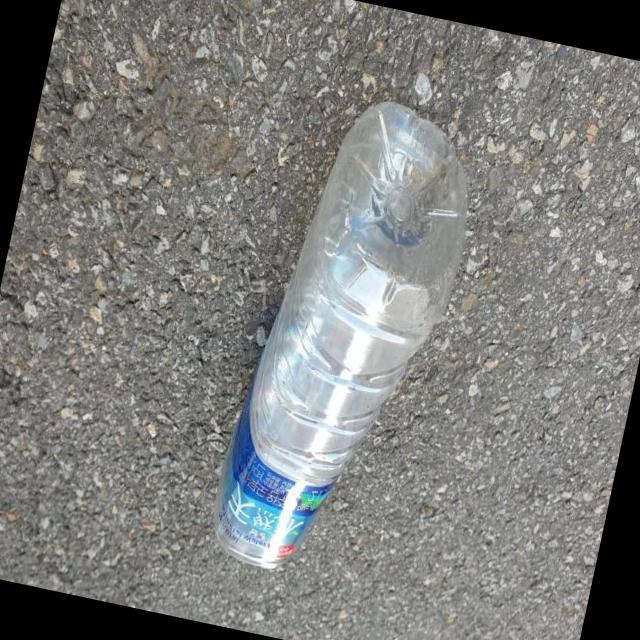plastic_bottle: (202, 82, 487, 595)
